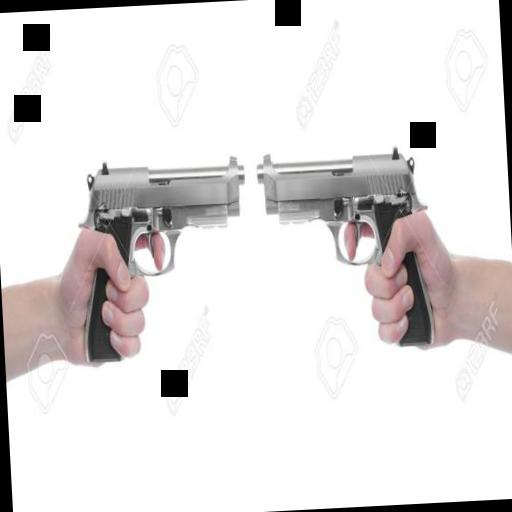Handgun: (76, 143, 252, 384), (254, 148, 439, 356)
